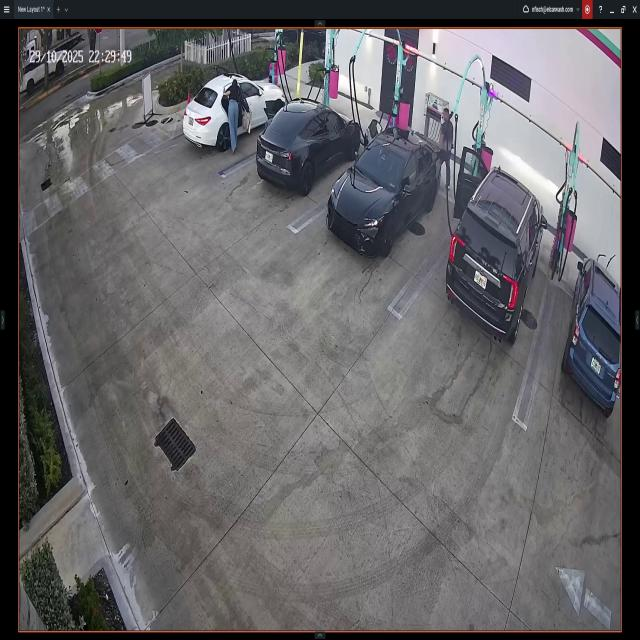Car: (449, 142, 546, 350), (325, 128, 440, 256), (258, 100, 361, 196), (564, 257, 620, 414), (181, 68, 286, 146)
